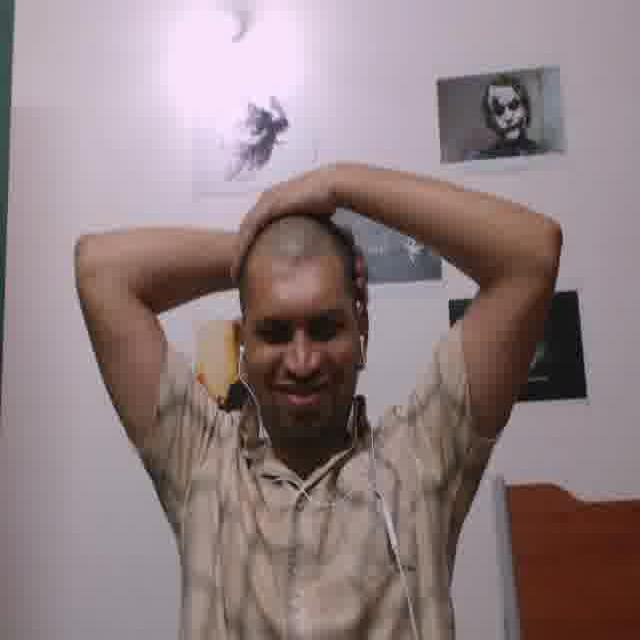Confusion: (242, 255, 353, 436)
